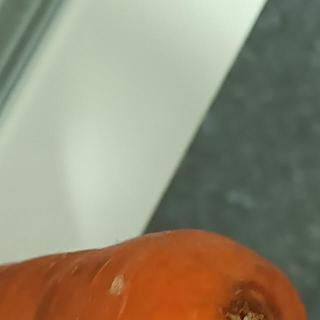carrot: (0, 225, 317, 320)
